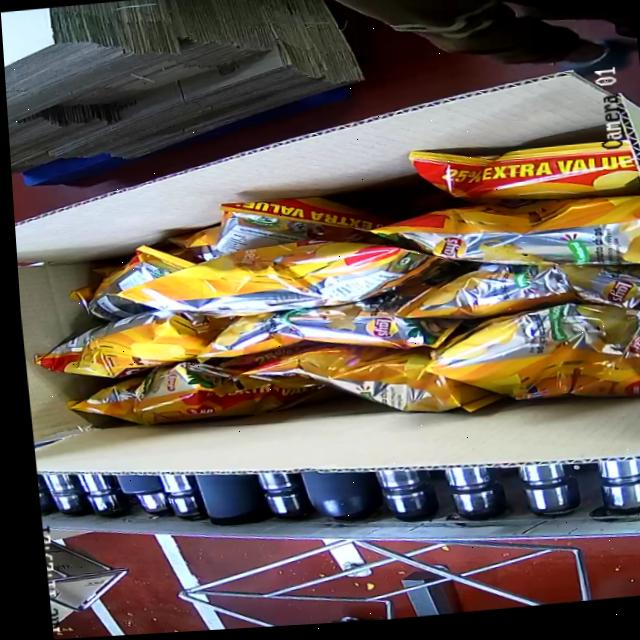FRENCH_CHEESE: (12, 138, 640, 459)
